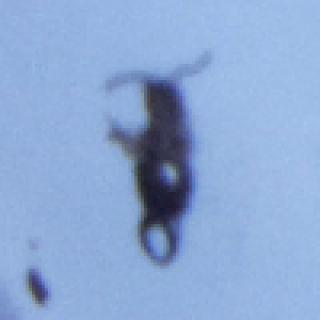earwig: (98, 45, 224, 270)
